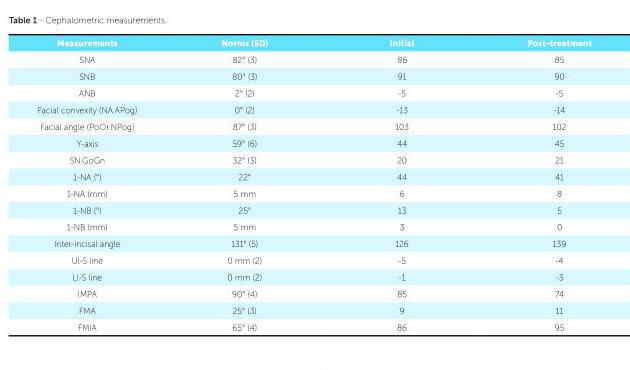table: (36, 37, 590, 331)
table column: (178, 37, 327, 331), (36, 37, 178, 331), (327, 37, 469, 331), (469, 37, 590, 331)
table row: (36, 50, 590, 67), (36, 67, 590, 84), (36, 100, 590, 117), (36, 117, 590, 134), (36, 134, 590, 151), (36, 167, 590, 184), (36, 184, 590, 201), (36, 201, 590, 218), (36, 234, 590, 251), (36, 251, 590, 268), (36, 284, 590, 301), (36, 301, 590, 318), (36, 84, 590, 100), (36, 151, 590, 167), (36, 218, 590, 234), (36, 268, 590, 284), (36, 37, 590, 50), (36, 318, 590, 331)
